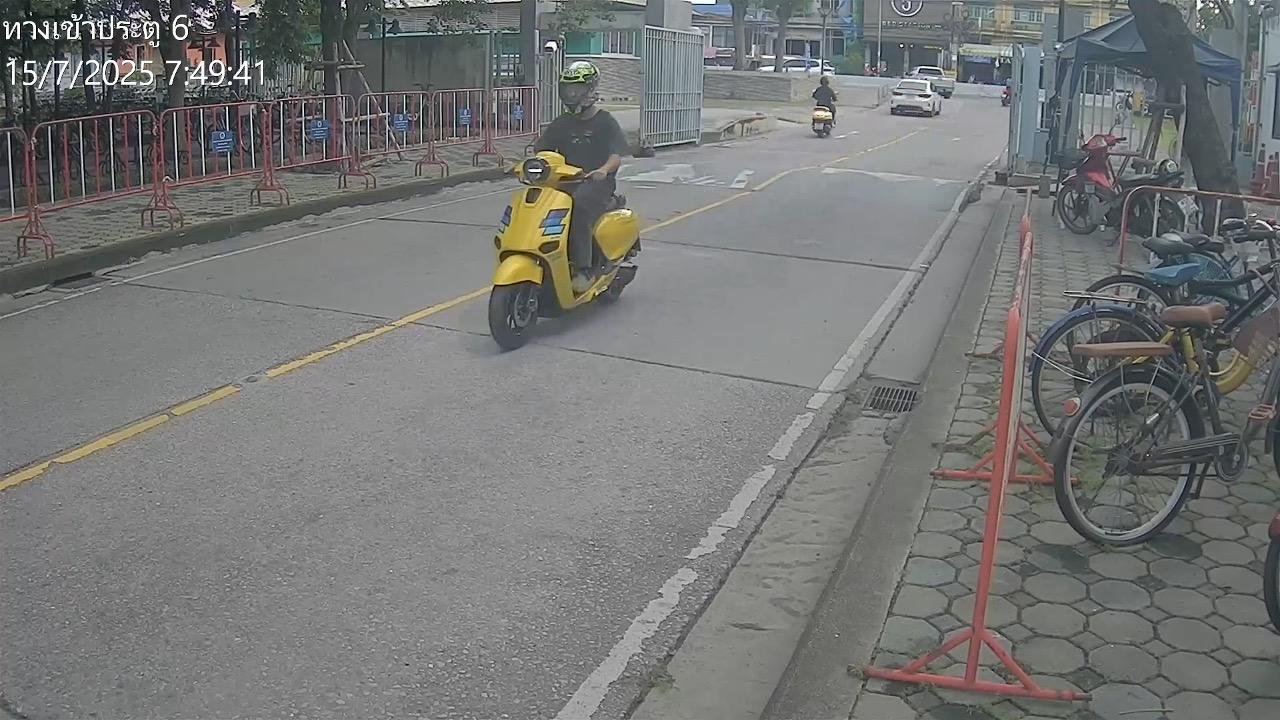With-Helmet: (557, 60, 600, 109)
